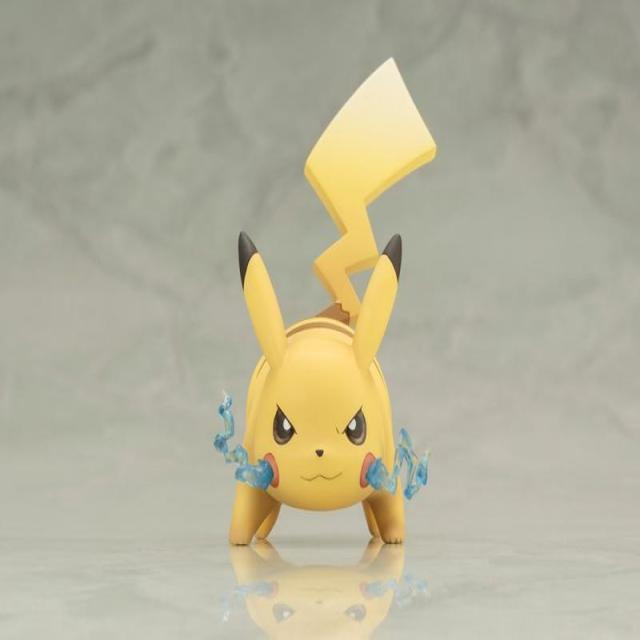pikachu: (229, 57, 439, 542)
